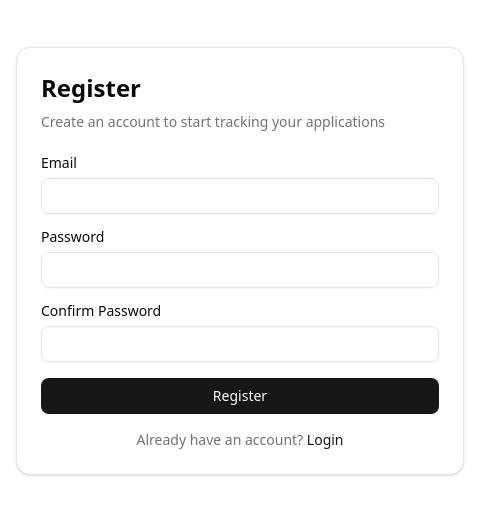
Test case: RegisterPage › displays server error when registration fails
The width and height of the screenshot is (481, 524).
Step 1. Type "test@example.com" into the field labelled "Email" → [240, 196], box [41,178,439,214]
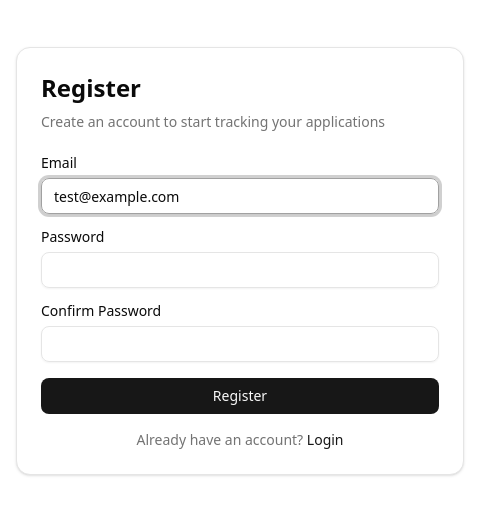
Step 2. Type "password123" into the password field labelled "Password" → [240, 270], box [41,252,439,288]
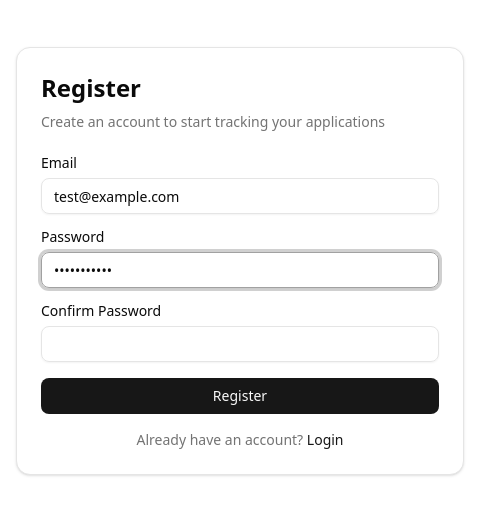
Step 3. Type "password123" into the password field labelled "Confirm Password" → [240, 344], box [41,326,439,362]
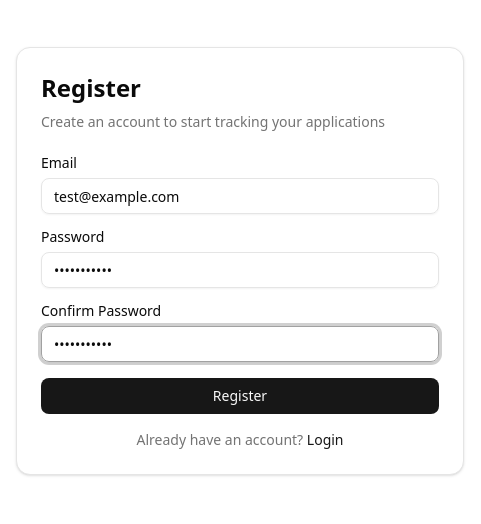
Step 4. Click the button "Register" → [240, 396], box [41,378,439,414]
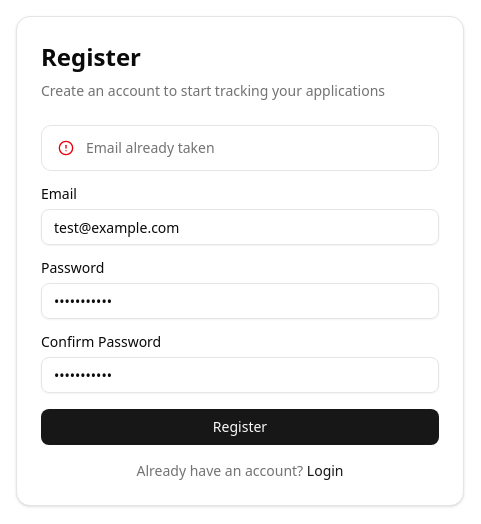
Now the text "Email already taken" is shown, box [86,138,215,157]
